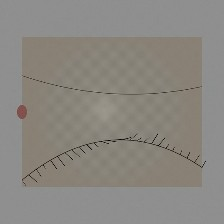hemorrhage_spot: (111, 97, 170, 145)
